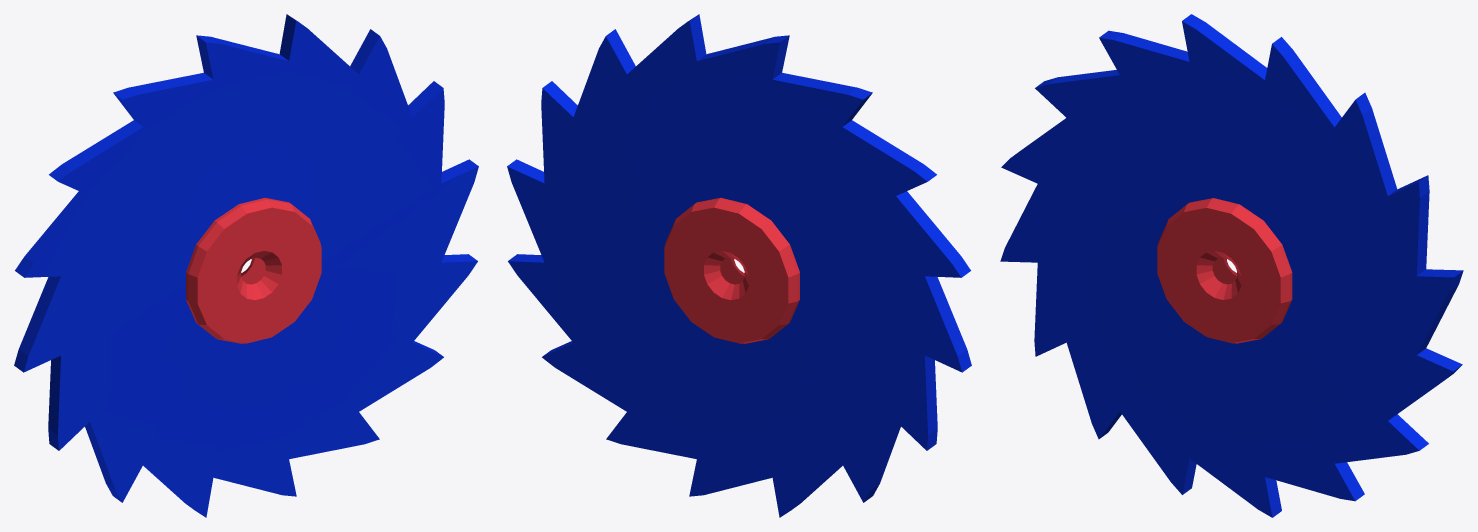
Rendered from saw.fbx.
The picture shows the model from 3 angles, left to right: view 1: azimuth 30°, elevation 25°; view 2: azimuth 150°, elevation 25°; view 3: azimuth 330°, elevation 25°; orthographic projection.
Visible parts, largest first — view 1: saw; view 2: saw; view 3: saw.
Boxes of the visible parts, x1=… form: saw: x1=14, y1=14, x2=478, y2=517; saw: x1=507, y1=14, x2=971, y2=517; saw: x1=1000, y1=14, x2=1463, y2=517.
Size of the model in its own units: 1.33 by 1.33 by 0.1318.
